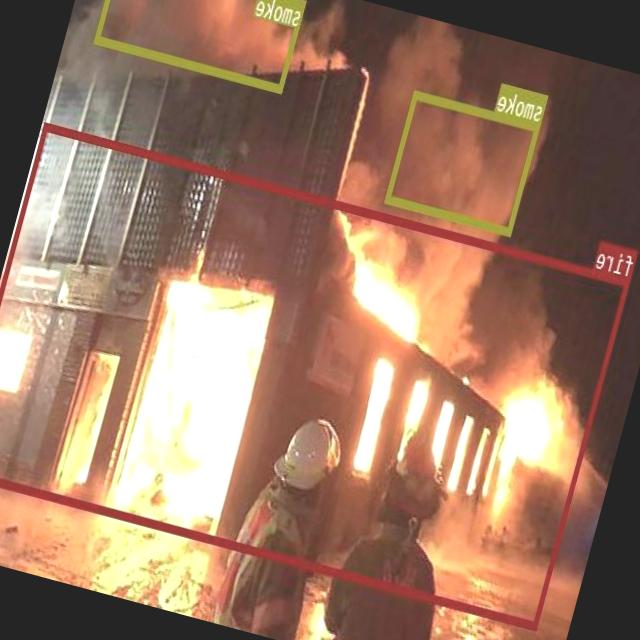fire: (0, 121, 631, 628)
smoke: (386, 89, 542, 234), (94, 0, 307, 92)
